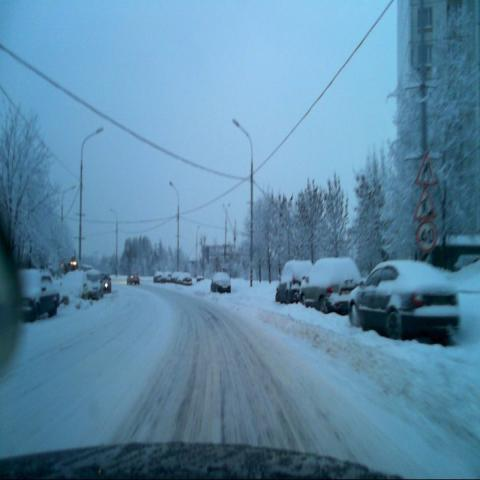1_20: (414, 149, 436, 186)
